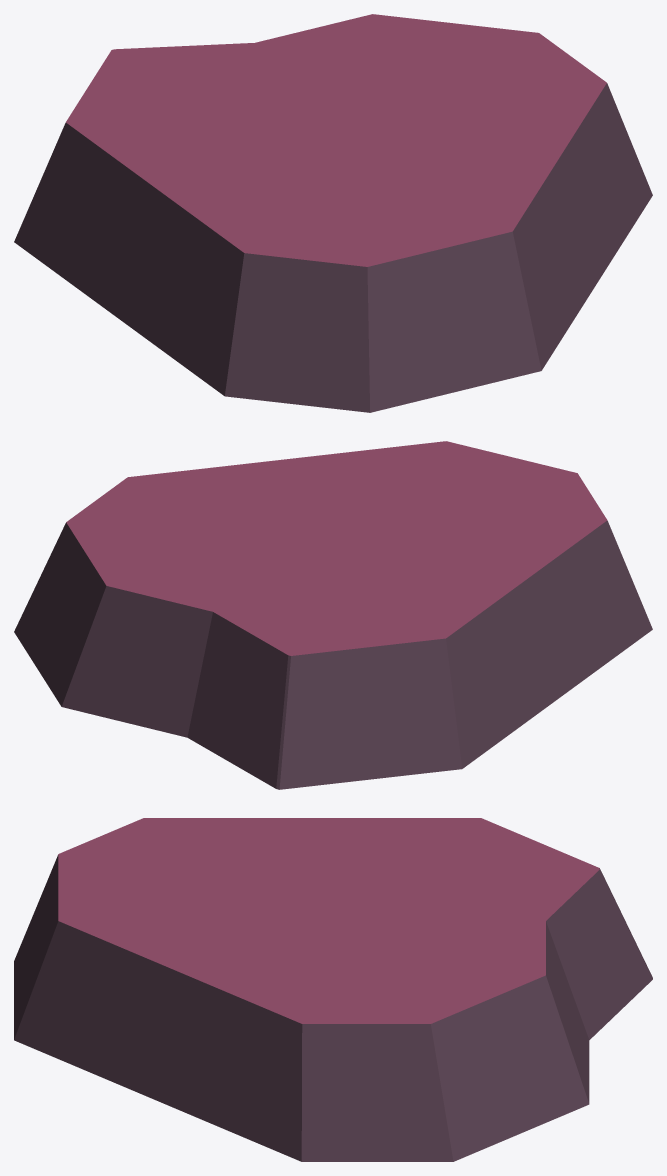
Rendered from Rock017.fbx.
3 views of the same model, one above another, from view 1: azimuth 30°, elevation 25°; view 2: azimuth 150°, elevation 25°; view 3: azimuth 270°, elevation 25° (orthographic). The views are drawn at different scales.
Visible parts, largest first — view 1: Rock017; view 2: Rock017; view 3: Rock017.
Part boxes in pixels (left/top/right/bottom): Rock017: left=14, top=14, right=652, bottom=412; Rock017: left=14, top=441, right=652, bottom=789; Rock017: left=14, top=818, right=652, bottom=1161.
Size of the model in its own units: 80.58 by 18.05 by 89.48.
